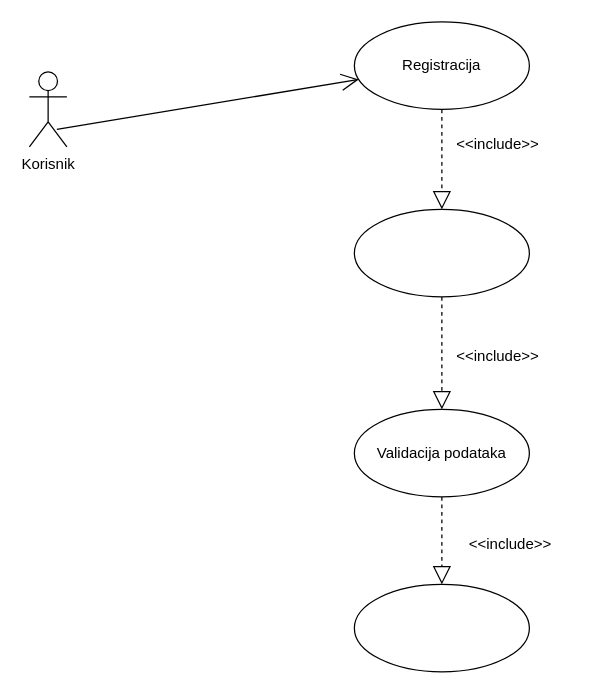
This 589x694 diagram has some shape labels left out. Each missing label, with the centre of its shape:
"Kreiranje naloga" goes at (441,627).
"Unos podataka" goes at (441,252).
